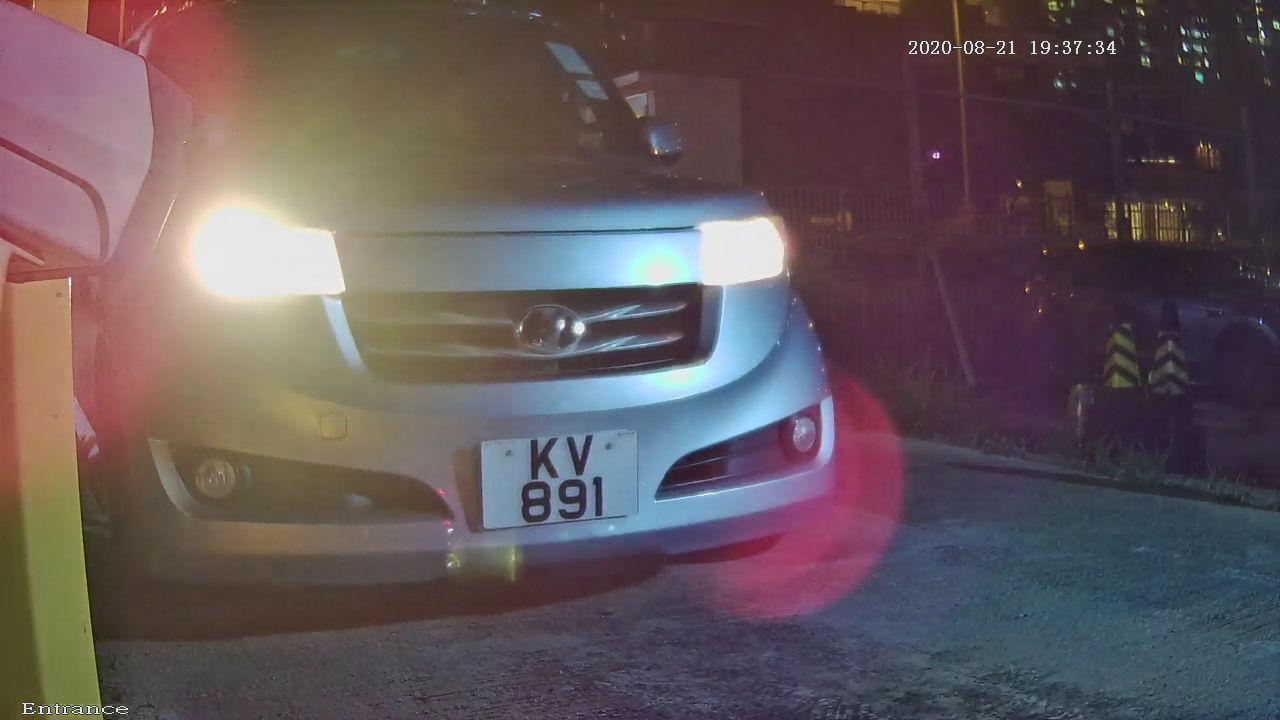Car: (35, 29, 926, 676)
License Plate: (452, 412, 663, 560)
